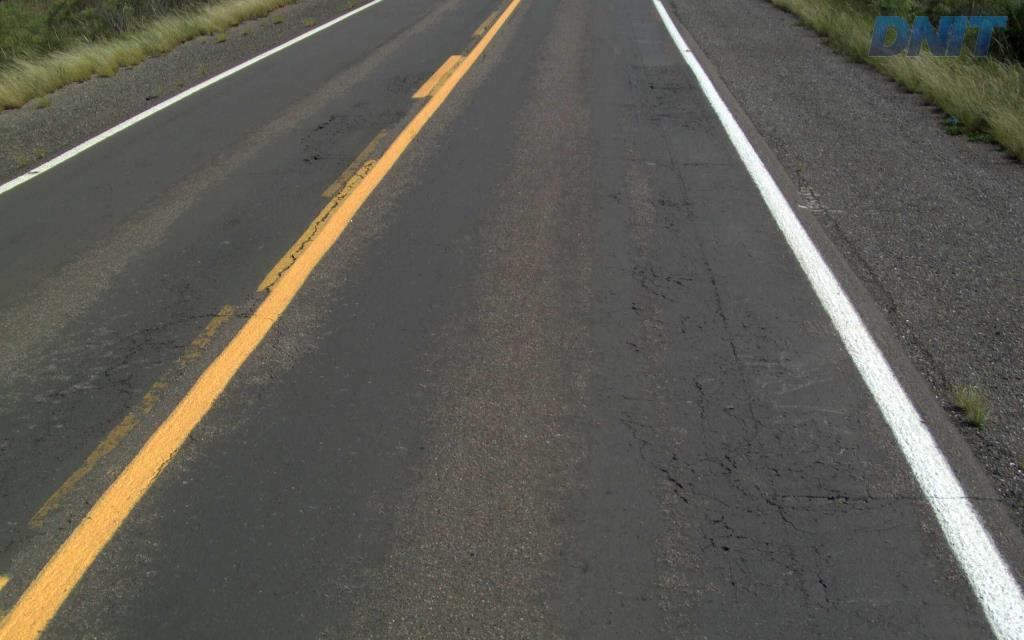crack: (699, 442, 753, 496)
